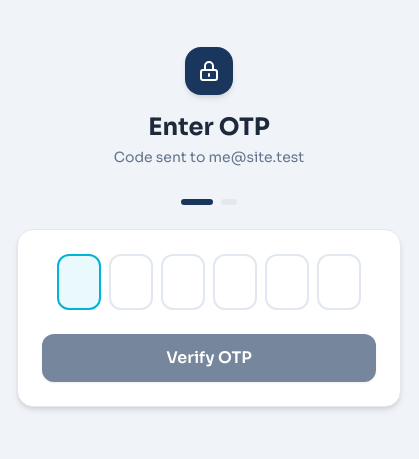
Test: ResetPasswordView › verifyForgotOtp failure shows error, clears inputs and focuses first
The width and height of the screenshot is (419, 459).
Type "9" into the 1st field.
click(79, 282); type("9")  # box x1=57 y1=254 x2=101 y2=310
Type "9" into the 2nd field.
click(131, 282); type("9")  # box x1=109 y1=254 x2=153 y2=310
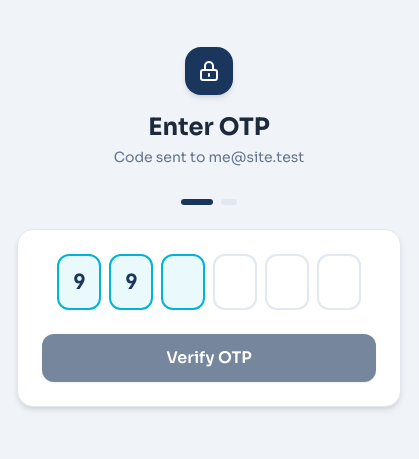
Type "9" into the 3rd field.
click(183, 282); type("9")  # box x1=161 y1=254 x2=205 y2=310
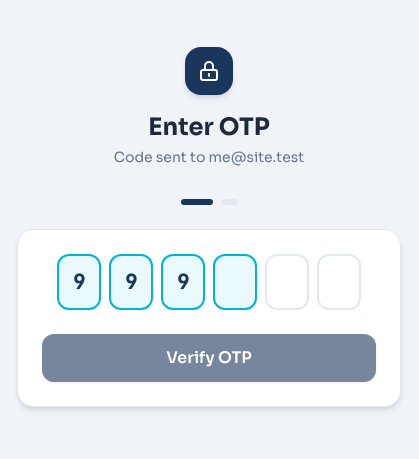
Type "9" into the 4th field.
click(235, 282); type("9")  # box x1=213 y1=254 x2=257 y2=310
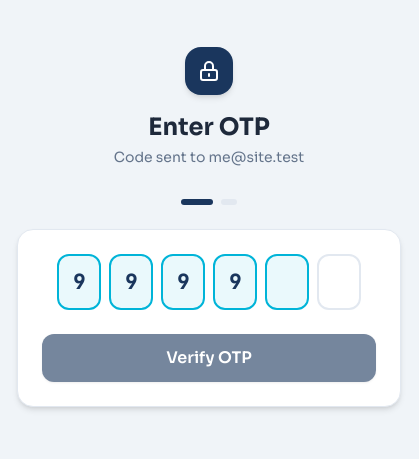
Type "9" into the 5th field.
click(287, 282); type("9")  # box x1=265 y1=254 x2=309 y2=310
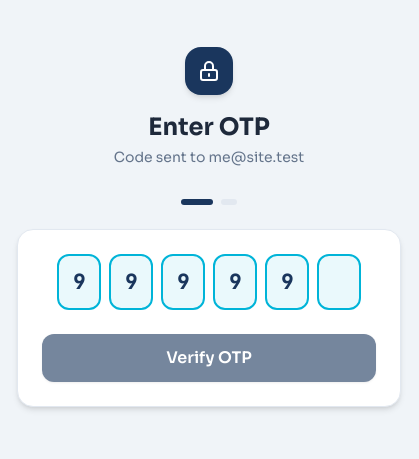
Type "9" into the 6th field.
click(339, 282); type("9")  # box x1=317 y1=254 x2=361 y2=310
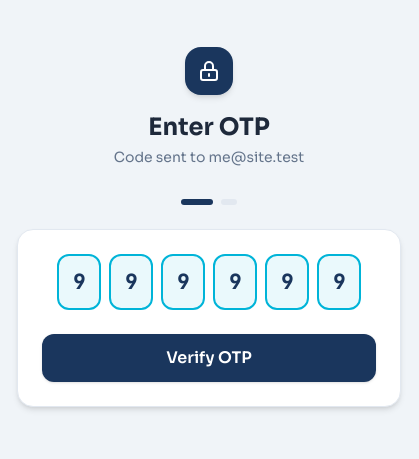
Click the button "Verify OTP".
click(209, 358)  # box x1=42 y1=334 x2=376 y2=382
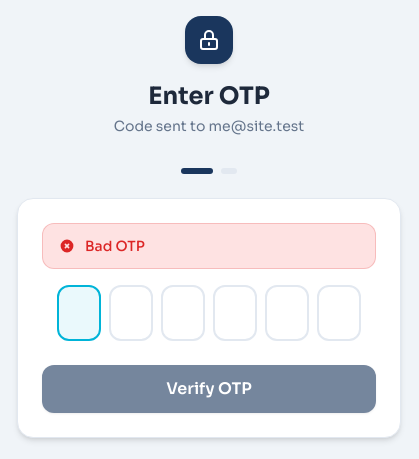
Now the text "Bad OTP" is shown, box x1=85 y1=236 x2=145 y2=256
